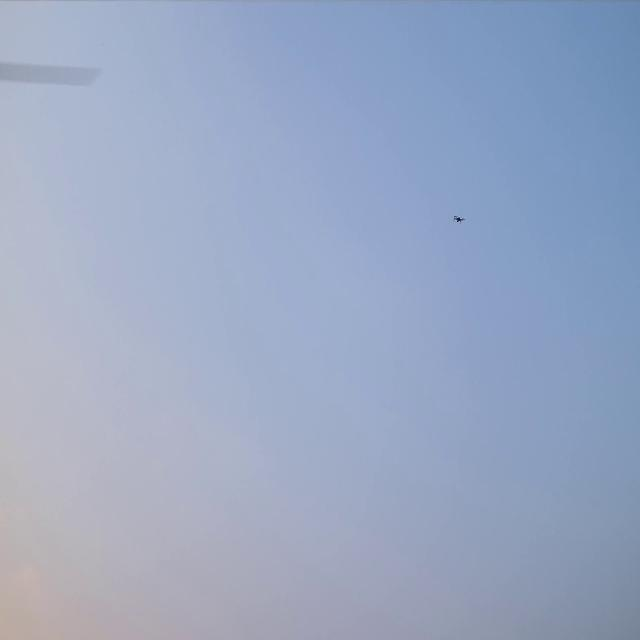UAV: (454, 216, 463, 221)
